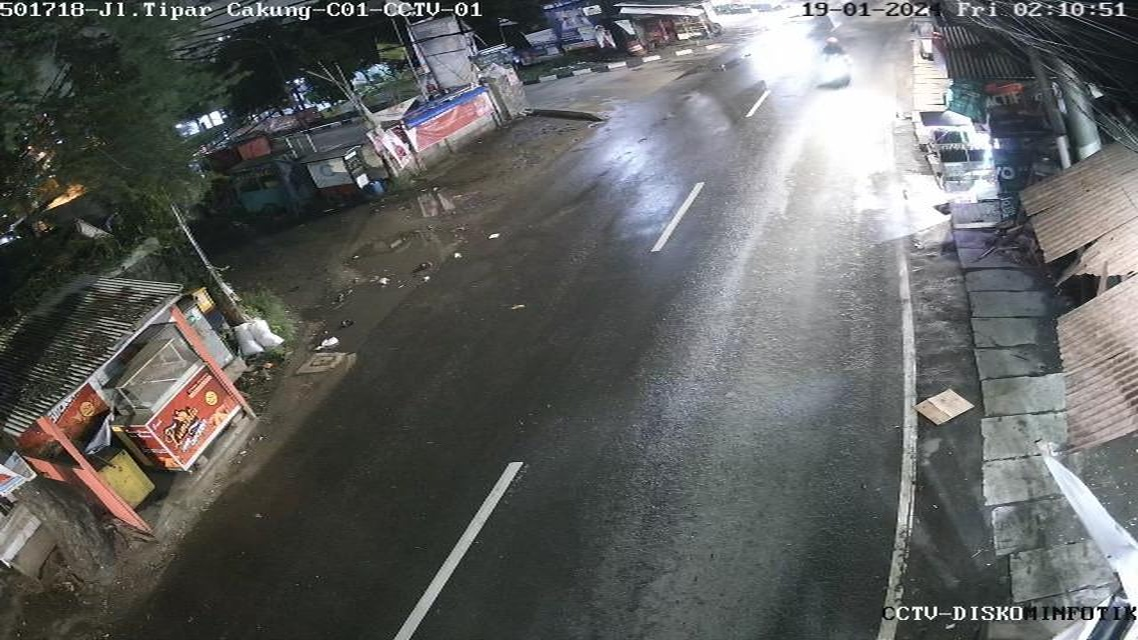Gerobak: (360, 11, 541, 176), (80, 343, 261, 500), (4, 374, 160, 533), (208, 147, 306, 229), (293, 147, 395, 217)
